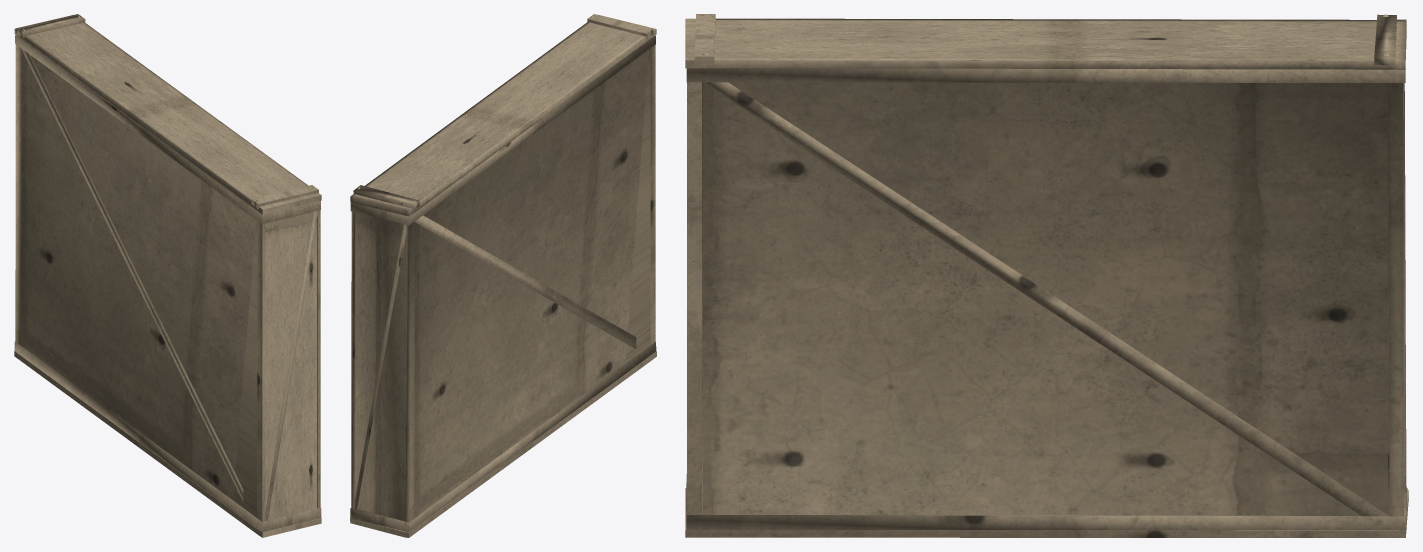
The model's file is Single_Wall.fbx.
3 views of the same model, side by side, from view 1: azimuth 30°, elevation 25°; view 2: azimuth 150°, elevation 25°; view 3: azimuth 270°, elevation 25° (orthographic). The views are drawn at different scales.
Visible parts, largest first — view 1: Single_Wall; view 2: Single_Wall; view 3: Single_Wall.
Boxes of the visible parts, box(x1,y1,x2,y2) form: Single_Wall: box(14, 14, 321, 537); Single_Wall: box(350, 14, 656, 537); Single_Wall: box(685, 14, 1408, 537).
Size of the model in its own units: 52.07 by 275 by 373.
1 material, 1 textured.
